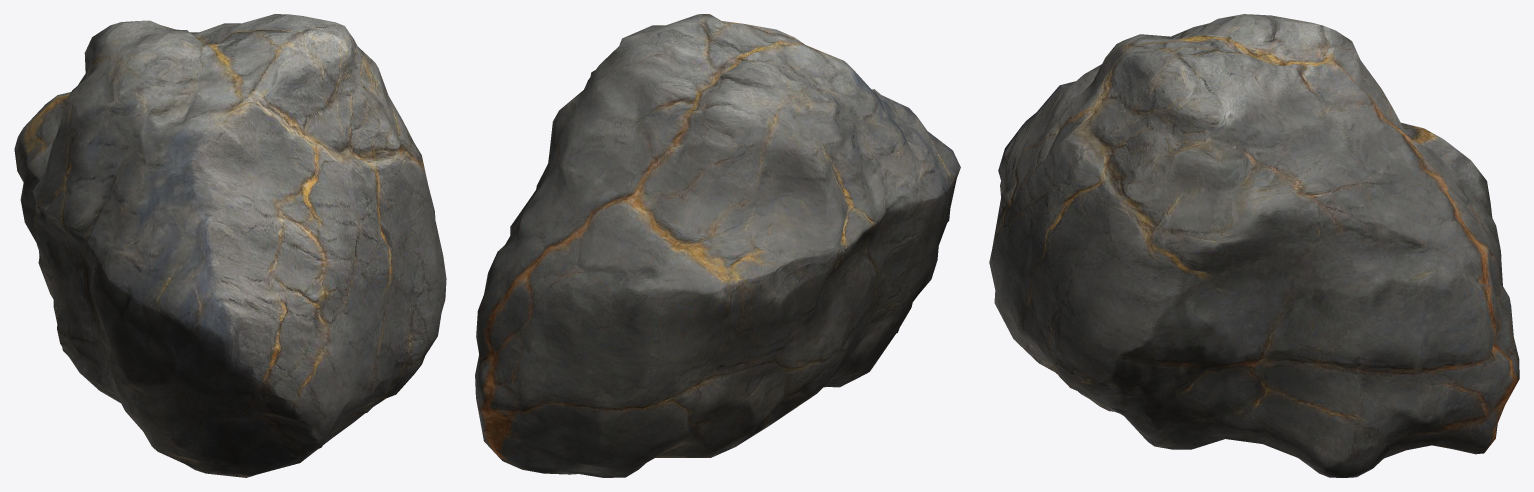
File: fels.glb
3 views of the same model, side by side, from view 1: azimuth 30°, elevation 25°; view 2: azimuth 150°, elevation 25°; view 3: azimuth 270°, elevation 25° (orthographic). The views are drawn at different scales.
Size of the model in its own units: 1.46 by 1.58 by 1.99.
Materials: 1 (1 with a texture image).
